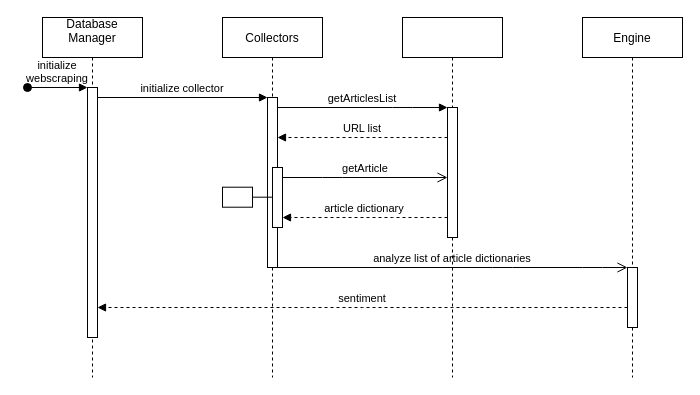
Image size: 700x395. Some labels were removed from this diagram. Each missing label, with the centre of its shape:
loop: point 237,196
Websites: point 452,197
